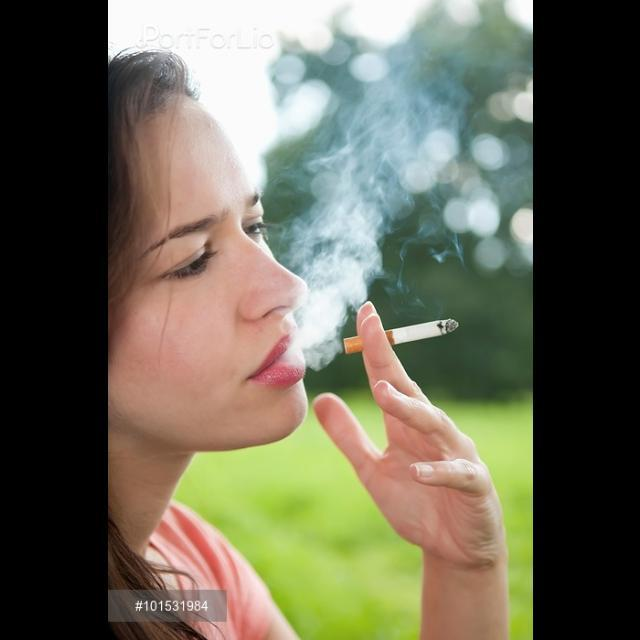rokok: (383, 310, 461, 352)
